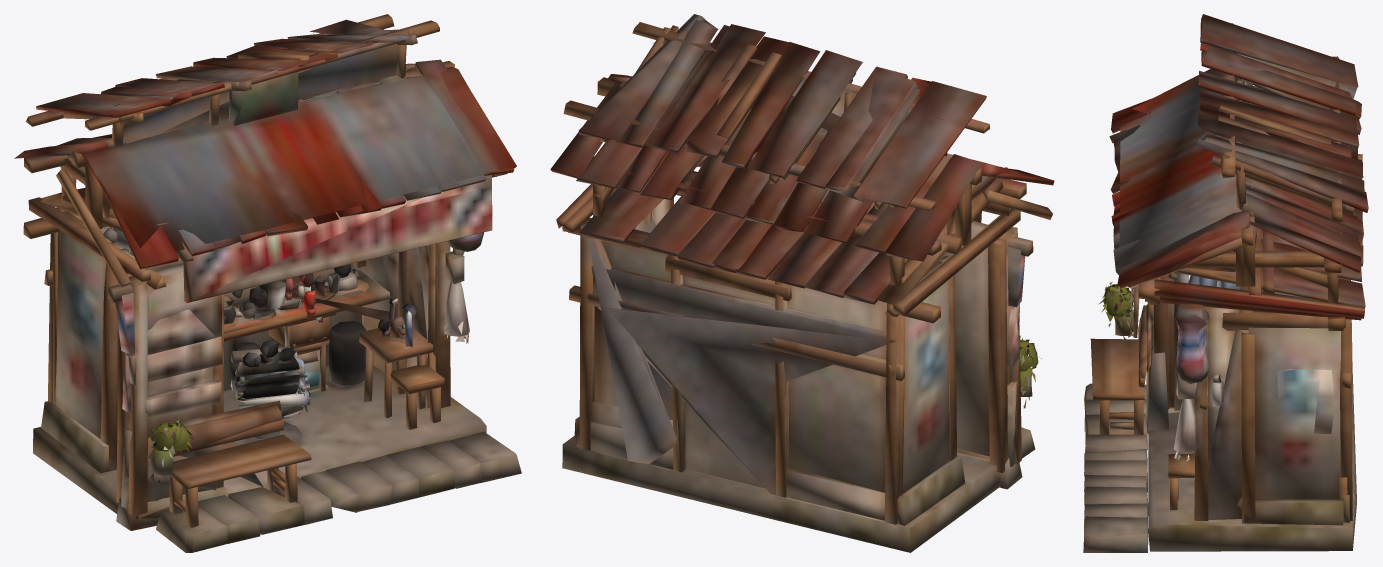
File: barber_shop.glb
The picture shows the model from 3 angles, left to right: view 1: azimuth 30°, elevation 25°; view 2: azimuth 150°, elevation 25°; view 3: azimuth 270°, elevation 25°; orthographic projection. The views are drawn at different scales.
Parts seen in each view (by area): view 1: Mesh0; view 2: Mesh0; view 3: Mesh0.
Part boxes in pixels (x1,y1,x2,y2): Mesh0: (14, 14, 521, 552); Mesh0: (550, 14, 1054, 552); Mesh0: (1083, 14, 1368, 552).
Size of the model in its own units: 1 by 1 by 0.6655.
Materials: 1 (1 with a texture image).
